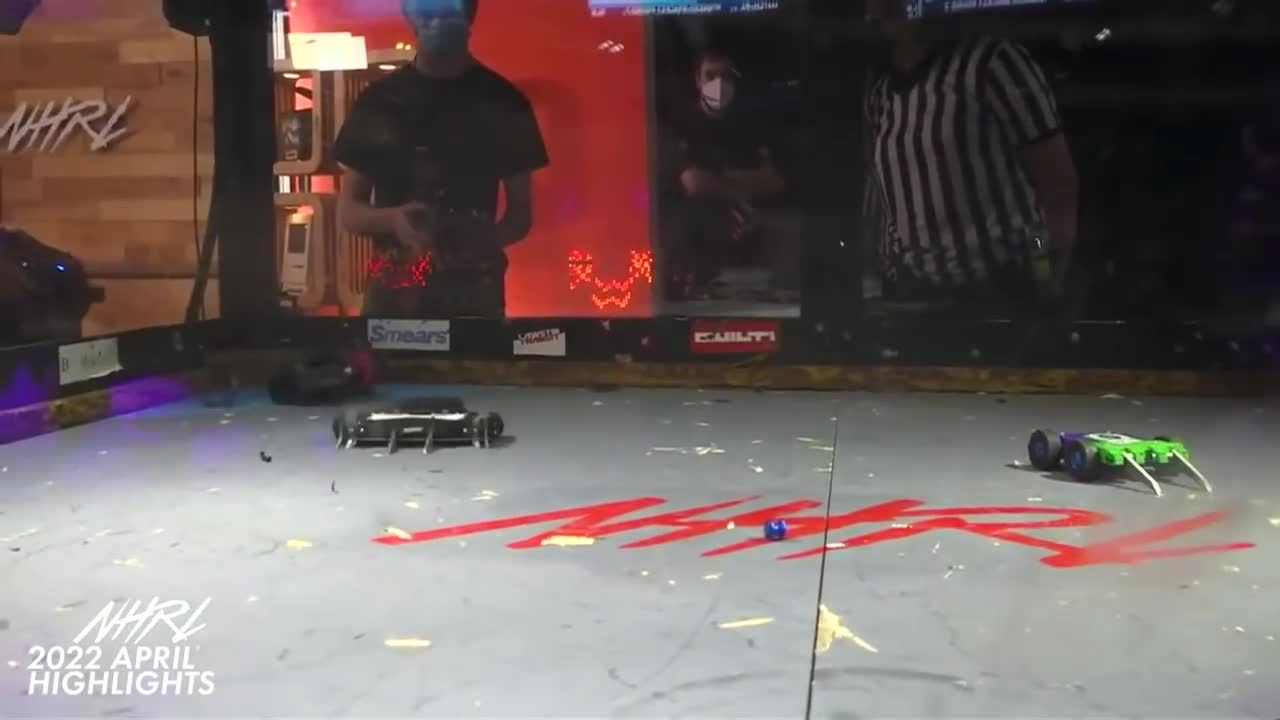combatbot: (330, 396, 513, 445), (1025, 428, 1194, 481), (265, 342, 380, 404)
debris: (767, 505, 788, 552)
